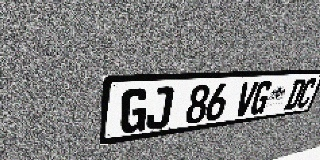6: (204, 83, 231, 122)
8: (184, 84, 212, 125)
C: (295, 78, 318, 108)
D: (283, 79, 307, 110)
G: (119, 88, 149, 134), (248, 81, 274, 115)
J: (145, 86, 174, 130)
V: (233, 81, 259, 118)
